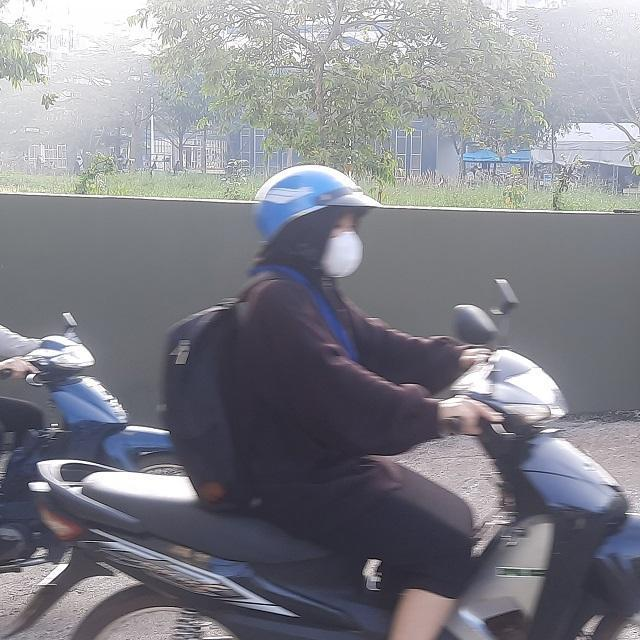Helmet: (253, 166, 375, 282)
